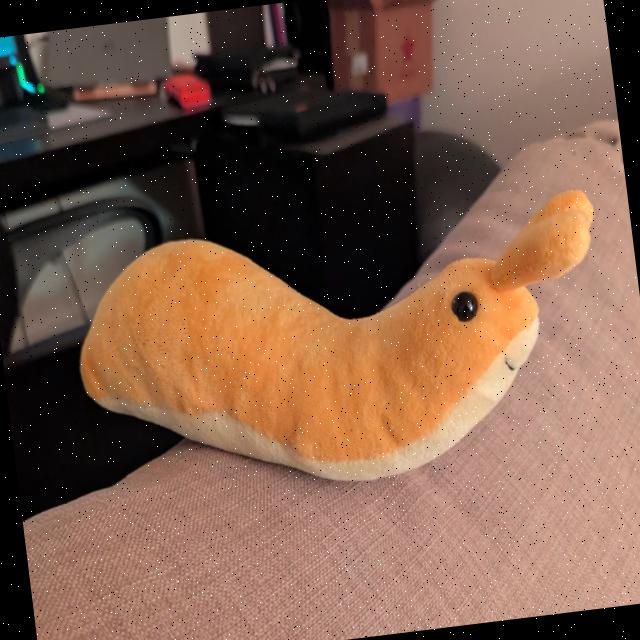banana-slug-toy: (51, 168, 636, 530)
